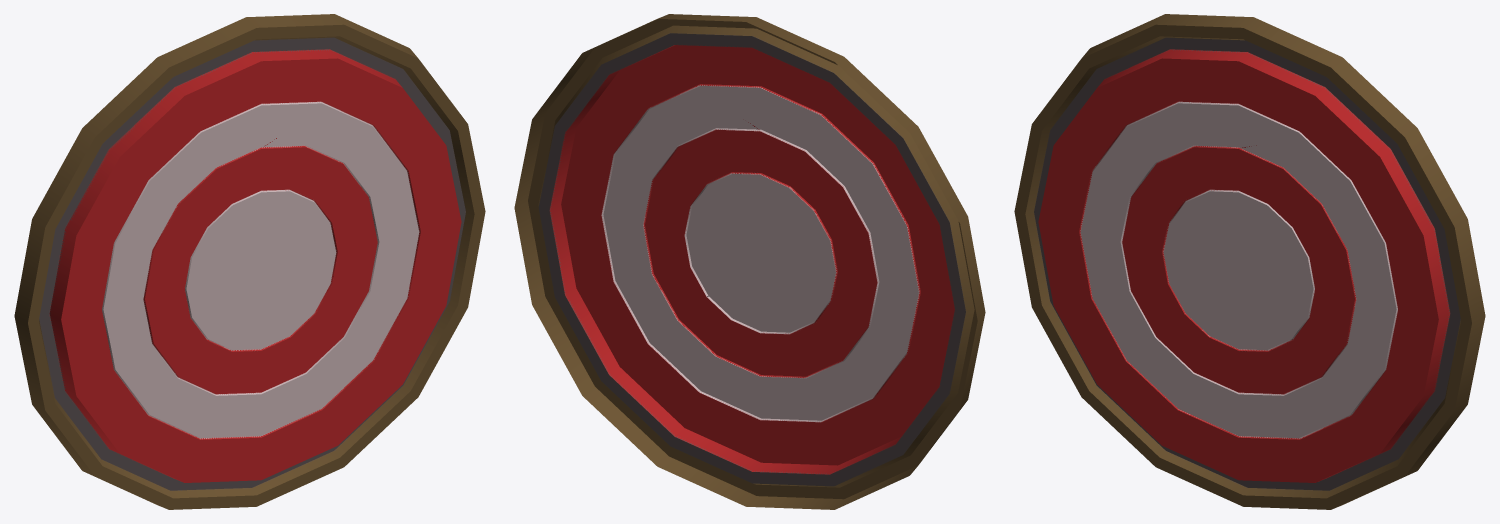
File: Traget.fbx
3 views of the same model, side by side, from view 1: azimuth 30°, elevation 25°; view 2: azimuth 150°, elevation 25°; view 3: azimuth 330°, elevation 25° (orthographic).
Parts seen in each view (by area): view 1: Target; view 2: Target; view 3: Target.
Part boxes in pixels (x1=…): Target: x1=14, y1=14, x2=485, y2=509; Target: x1=514, y1=14, x2=985, y2=509; Target: x1=1014, y1=14, x2=1485, y2=509.
Bounding box in the file's own units: 91.61 × 91.61 × 5.23.
Materials: 1 (1 with a texture image).
